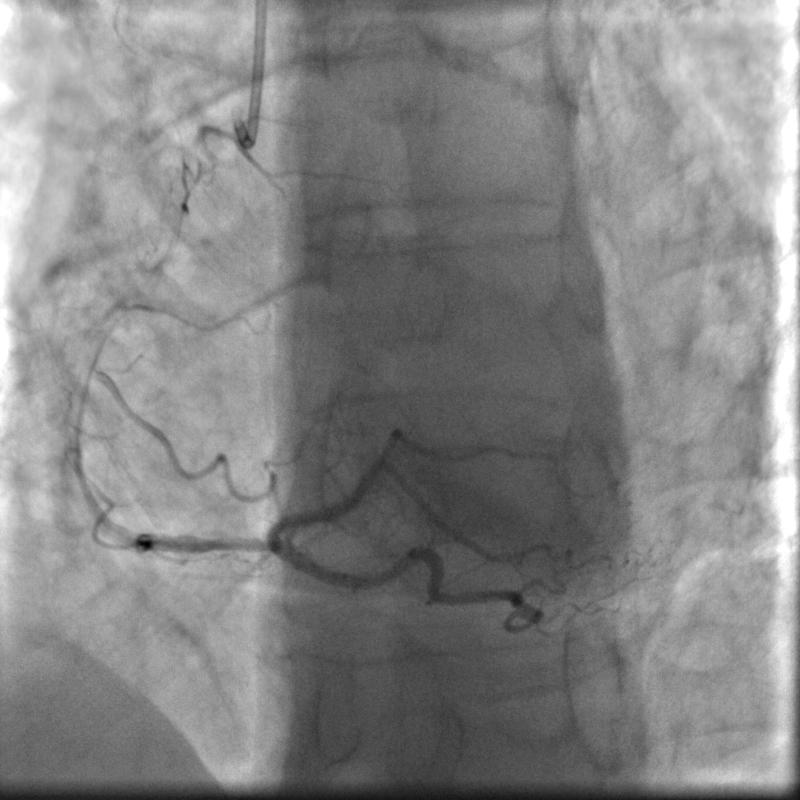Stenosis: (171, 526, 272, 568)
